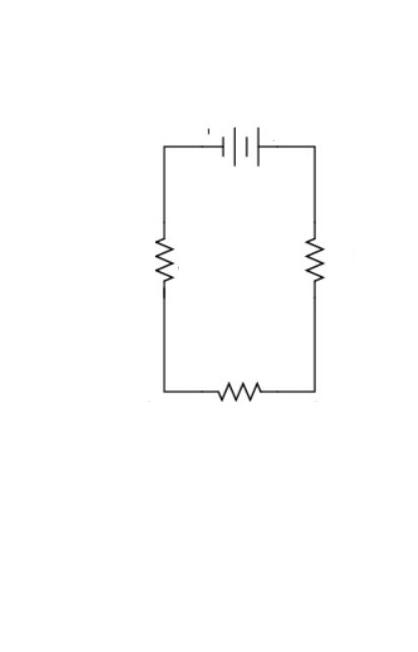resistor: (189, 354, 293, 425), (284, 211, 346, 303), (141, 210, 187, 305)
